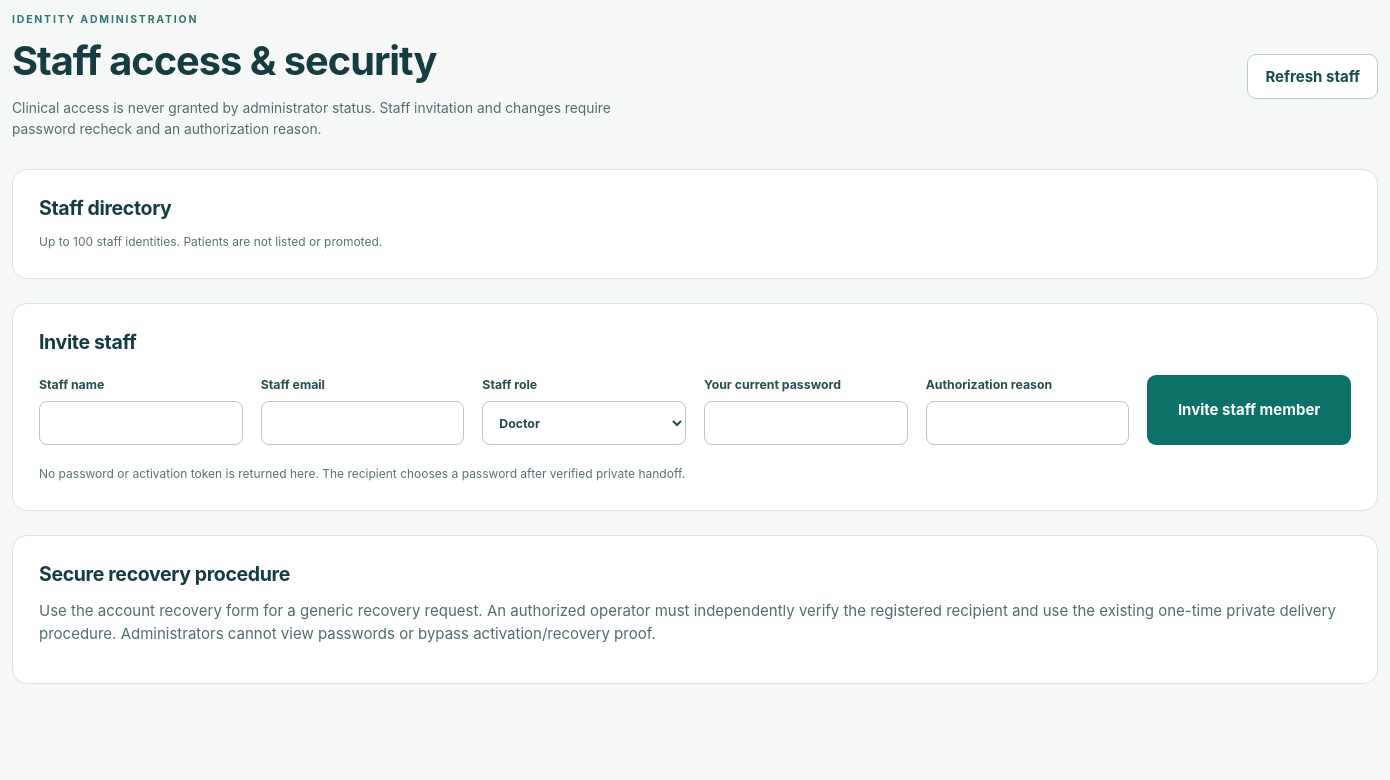
Test: admin provision uses password recheck without returning an activation secret
Type "Synthetic clinician" into the field labelled "Staff name" at (141, 423), box 39,401 -> 243,445
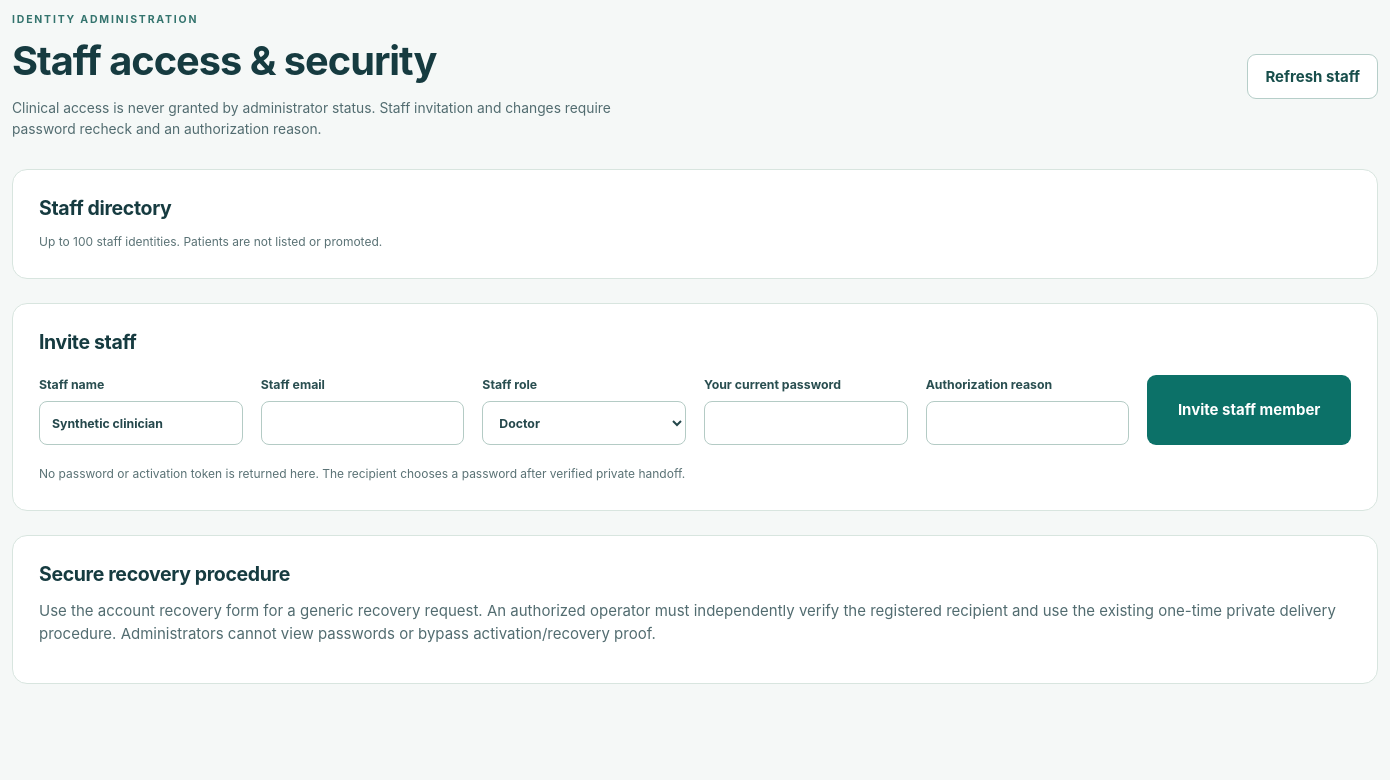
Type "new@example.test" into the field labelled "Staff email" at (363, 423), box 261,401 -> 464,445
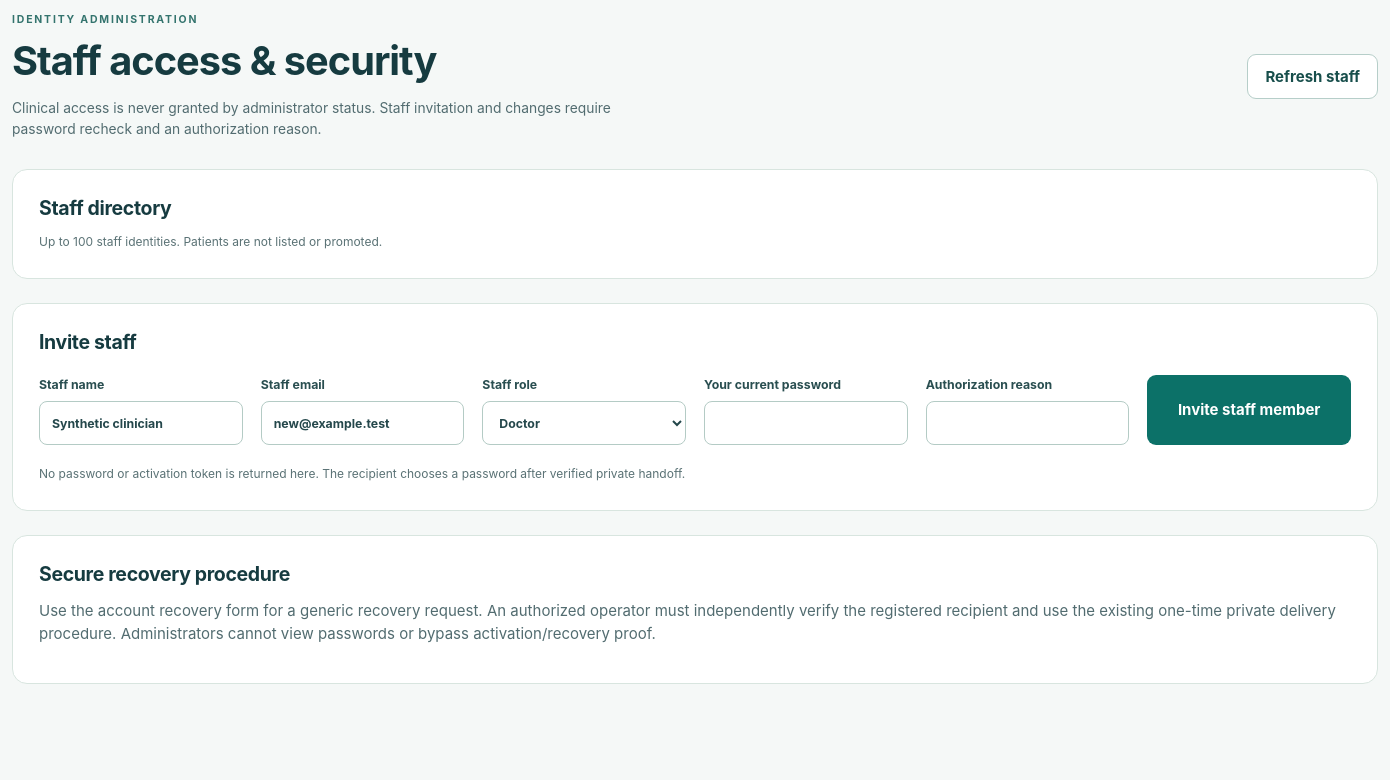
Type "Synthetic-private-password" into the password field labelled "Your current password" at (806, 423), box 704,401 -> 908,445
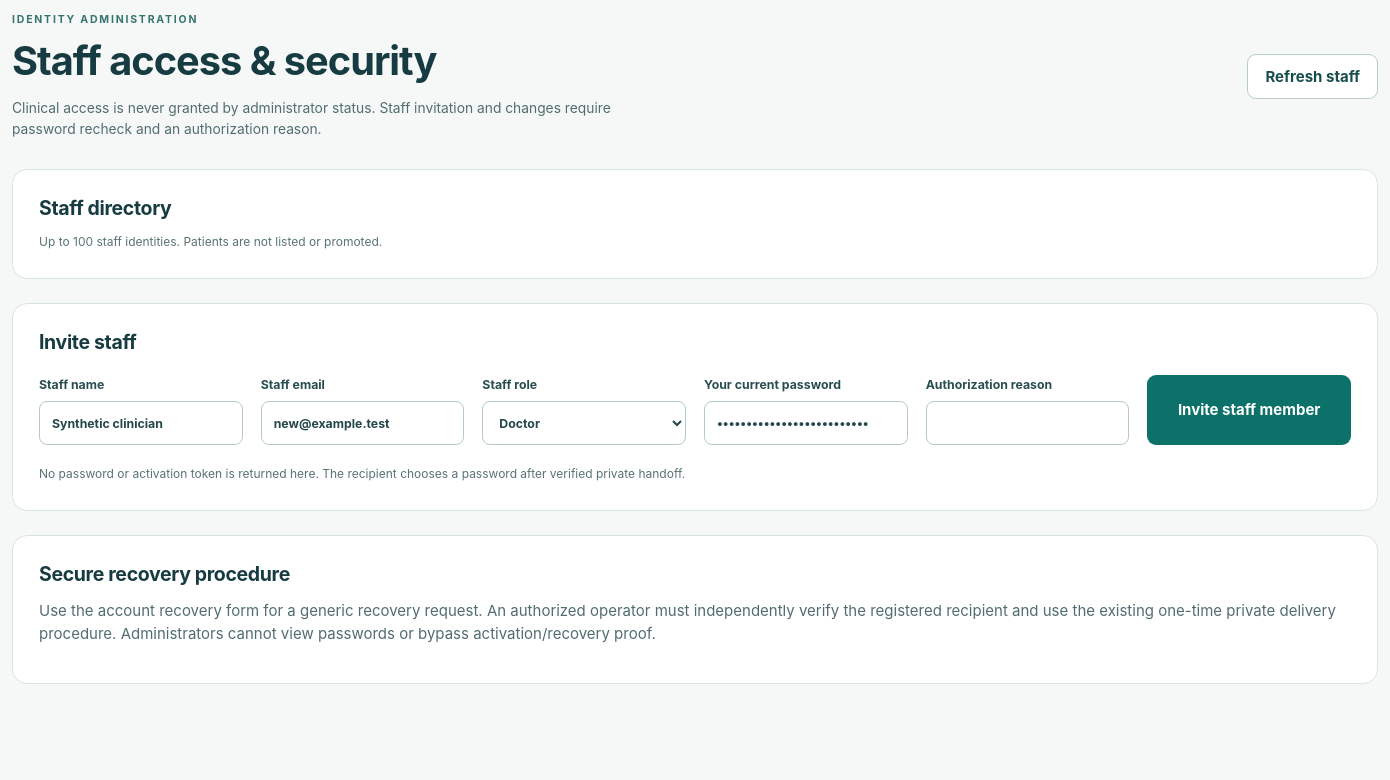
Type "Synthetic verified onboarding" into the field labelled "Authorization reason" at (1028, 423), box 926,401 -> 1129,445
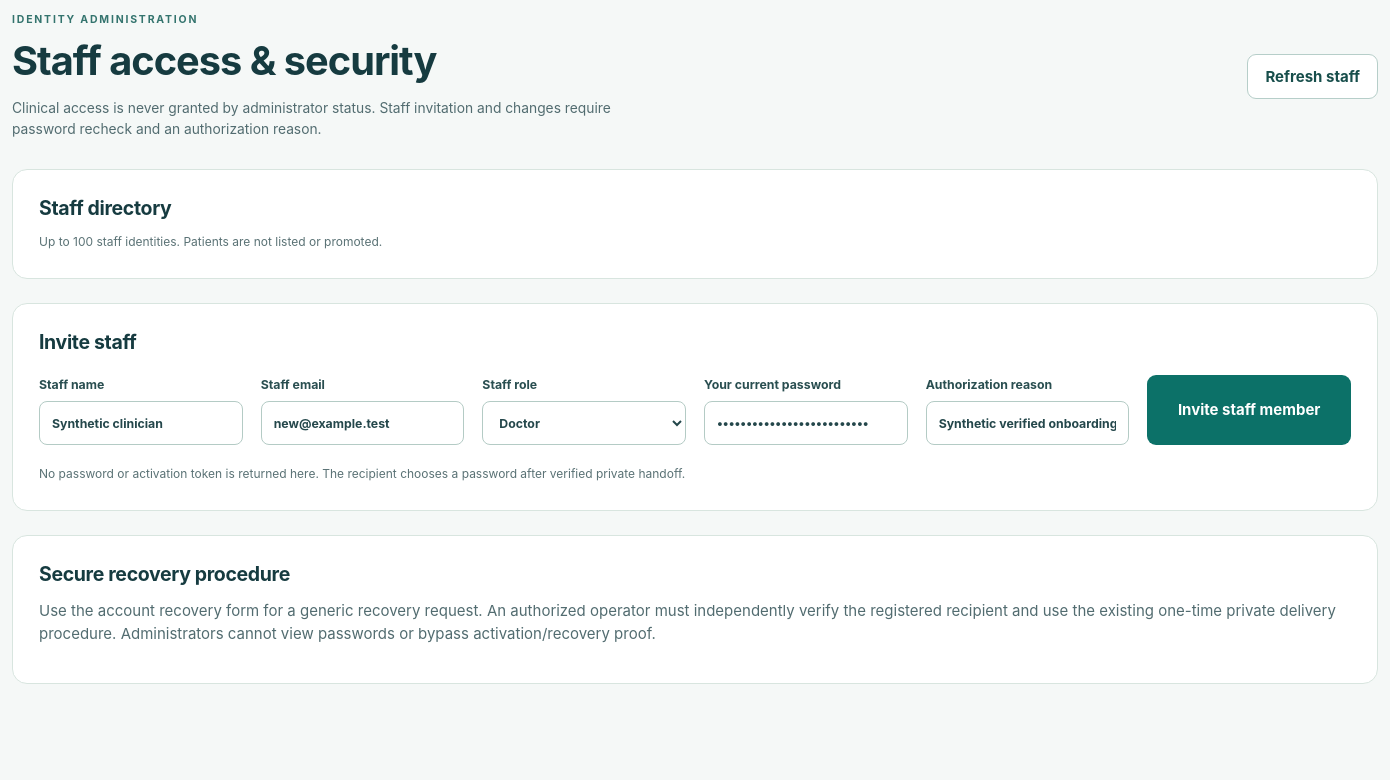
Click the button "Invite staff member" at (1249, 410), box 1147,375 -> 1351,445
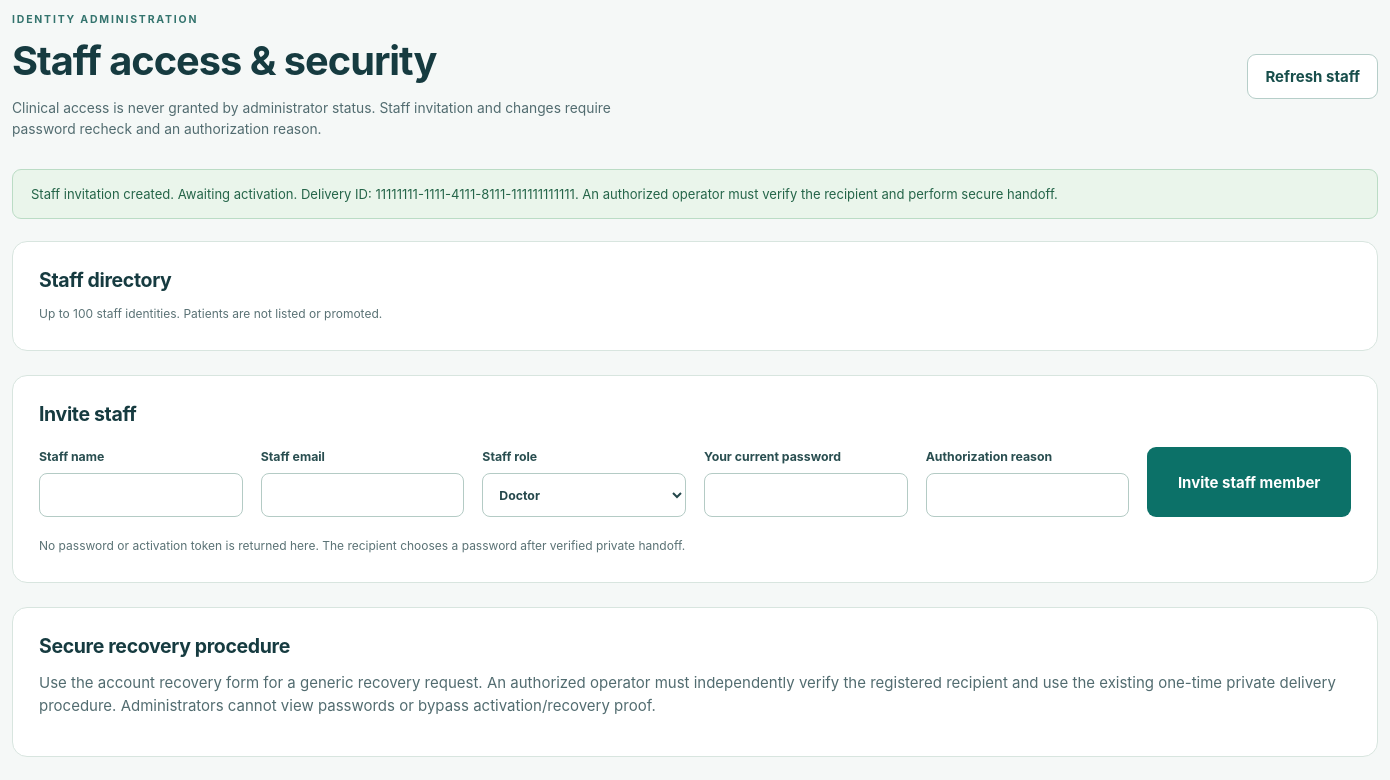
Check: the message shows "Awaiting activation", box 31,186 -> 1058,202
Check: the password field labelled "Your current password" is empty, box 704,473 -> 908,517
